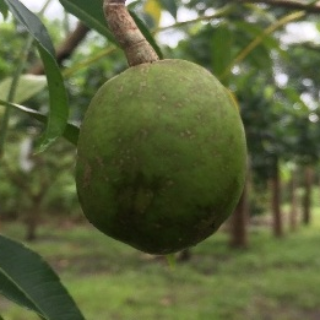coc: (76, 58, 245, 257)
